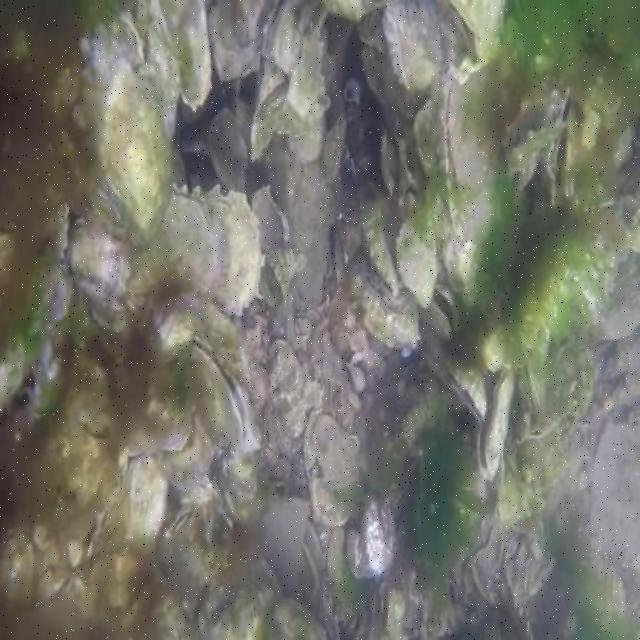Oyster-Closed: (159, 182, 263, 316), (104, 62, 174, 233), (348, 243, 420, 350), (189, 332, 251, 451), (304, 413, 359, 523), (157, 0, 212, 106), (385, 0, 445, 87), (209, 0, 275, 77), (358, 194, 402, 296), (477, 369, 515, 487), (394, 216, 438, 307), (72, 225, 122, 300), (93, 14, 141, 90), (127, 456, 168, 540), (209, 107, 248, 193), (360, 494, 398, 579), (127, 407, 194, 455), (262, 0, 304, 75), (362, 256, 413, 314), (448, 364, 487, 428), (274, 599, 329, 640), (212, 460, 237, 528), (325, 116, 346, 177), (381, 582, 407, 630), (165, 505, 192, 539)
Oyster-Open: (543, 86, 584, 206), (505, 92, 567, 168), (421, 284, 461, 344), (301, 0, 326, 37)
